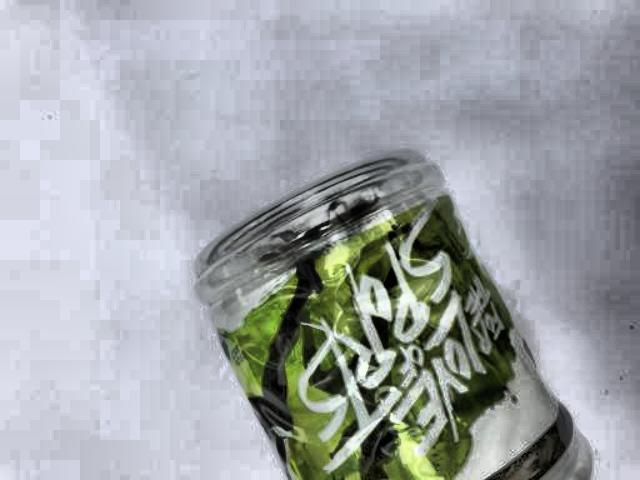Bottles: (160, 149, 591, 475)
